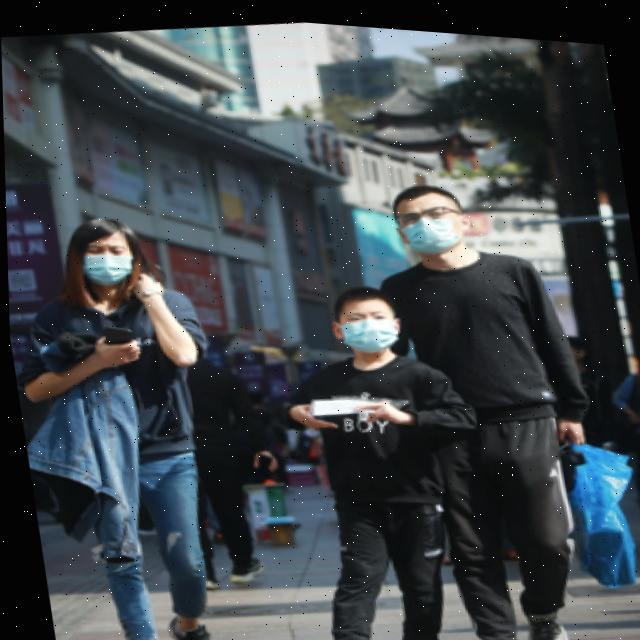Mask: (314, 304, 410, 353), (384, 203, 471, 253), (69, 240, 145, 290)
